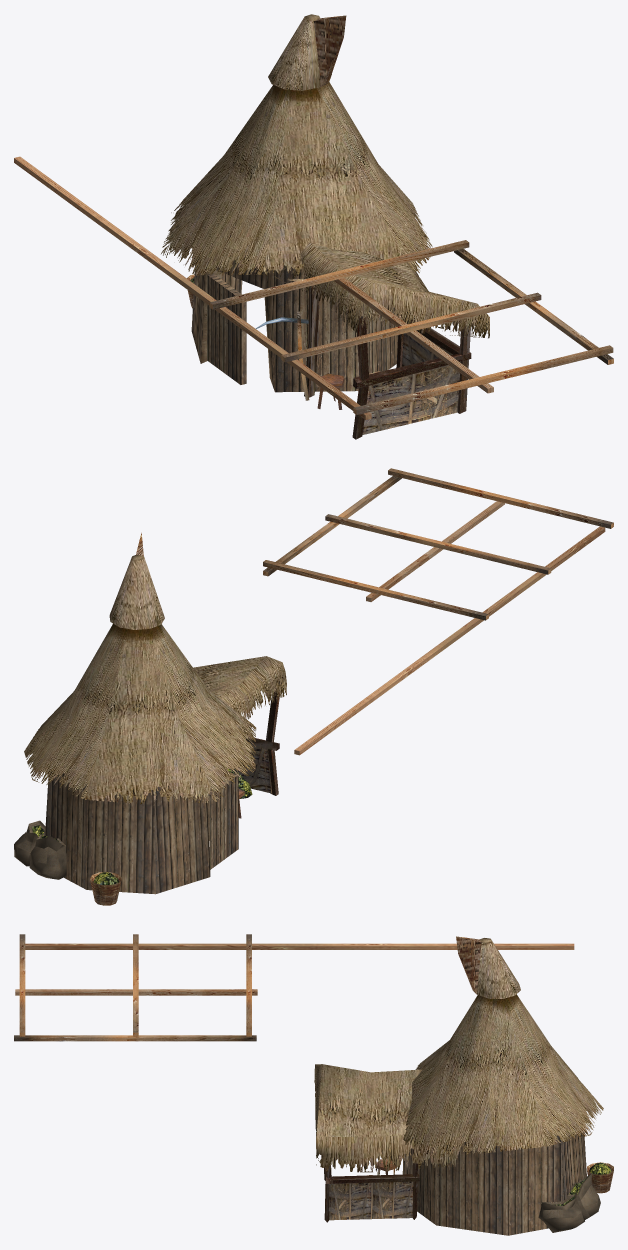
The model's file is building_farm_hops.glb.
The picture shows the model from 3 angles, top to bottom: view 1: azimuth 30°, elevation 25°; view 2: azimuth 150°, elevation 25°; view 3: azimuth 270°, elevation 25°; orthographic projection. The views are drawn at different scales.
Visible parts, largest first — view 1: building_farm_hops; view 2: building_farm_hops; view 3: building_farm_hops.
Part boxes in pixels (left/top/right/bottom): building_farm_hops: left=14, top=14, right=613, bottom=439; building_farm_hops: left=14, top=468, right=613, bottom=905; building_farm_hops: left=14, top=934, right=613, bottom=1235.
Size of the model in its own units: 6.17 by 5.71 by 11.36.
Materials: 10 (10 with a texture image).
